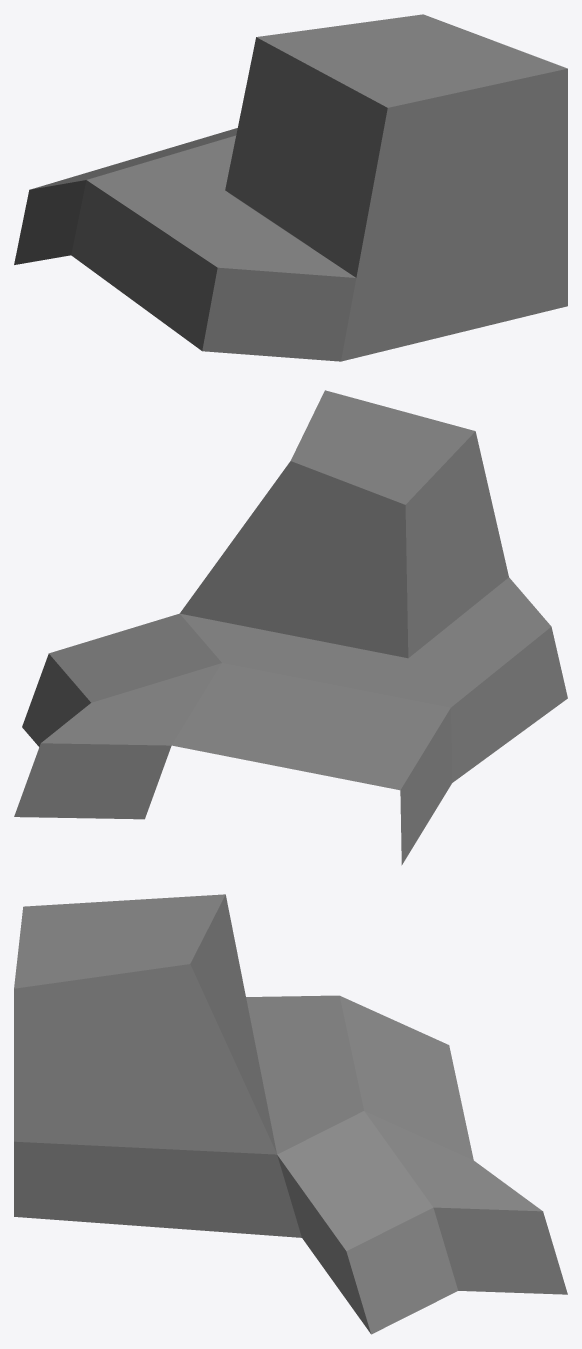
File: Mesh_Rock5.fbx
3 views of the same model, one above another, from view 1: azimuth 30°, elevation 25°; view 2: azimuth 150°, elevation 25°; view 3: azimuth 270°, elevation 25° (orthographic). The views are drawn at different scales.
Parts seen in each view (by area): view 1: Mesh_Rock6; view 2: Mesh_Rock6; view 3: Mesh_Rock6.
Boxes of the visible parts, x1,y1,x2,y2 form: Mesh_Rock6: [14, 14, 567, 361]; Mesh_Rock6: [14, 390, 567, 865]; Mesh_Rock6: [14, 894, 567, 1334].
Bounding box in the file's own units: 2.1 × 1.22 × 2.2.
Materials: 1 (1 with a texture image).
